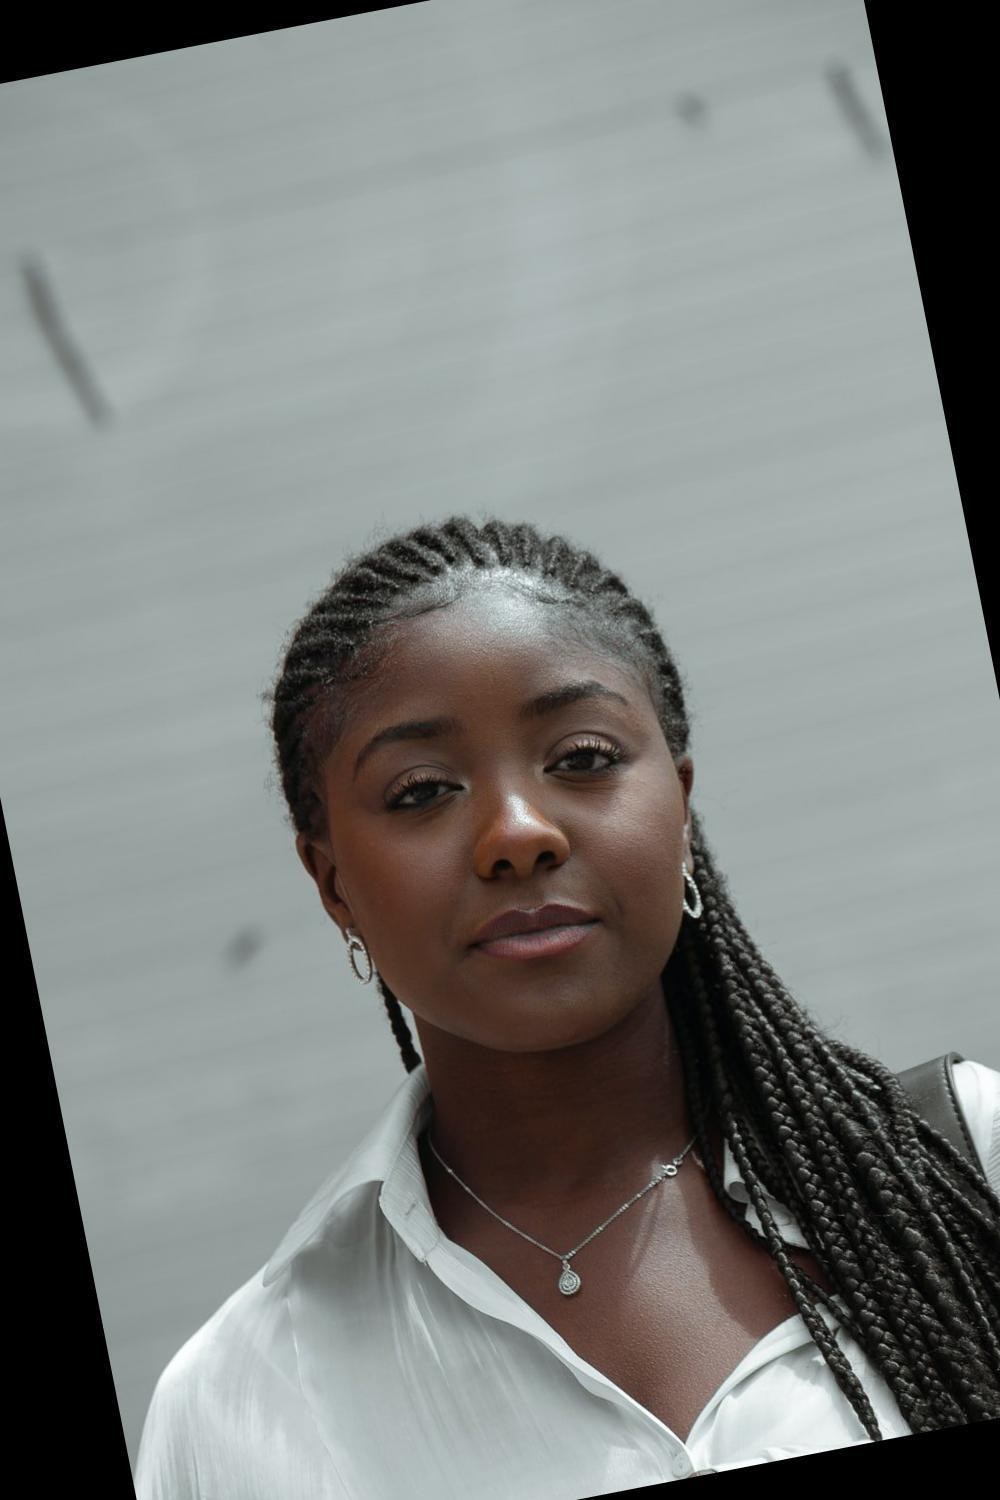Sober: (308, 610, 686, 1036)
